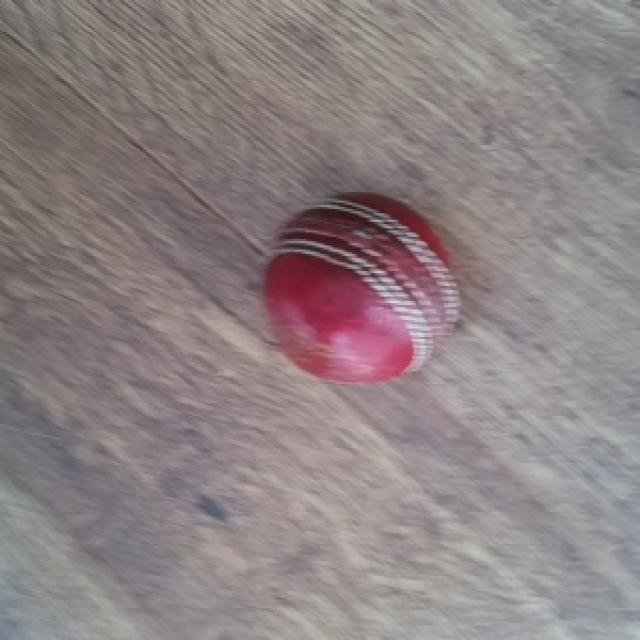ball: (260, 192, 457, 386)
